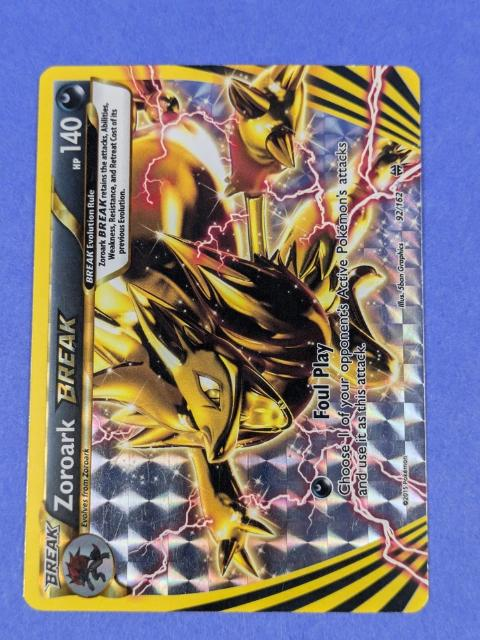Card: (19, 63, 435, 615)
Name: (47, 301, 84, 520)
